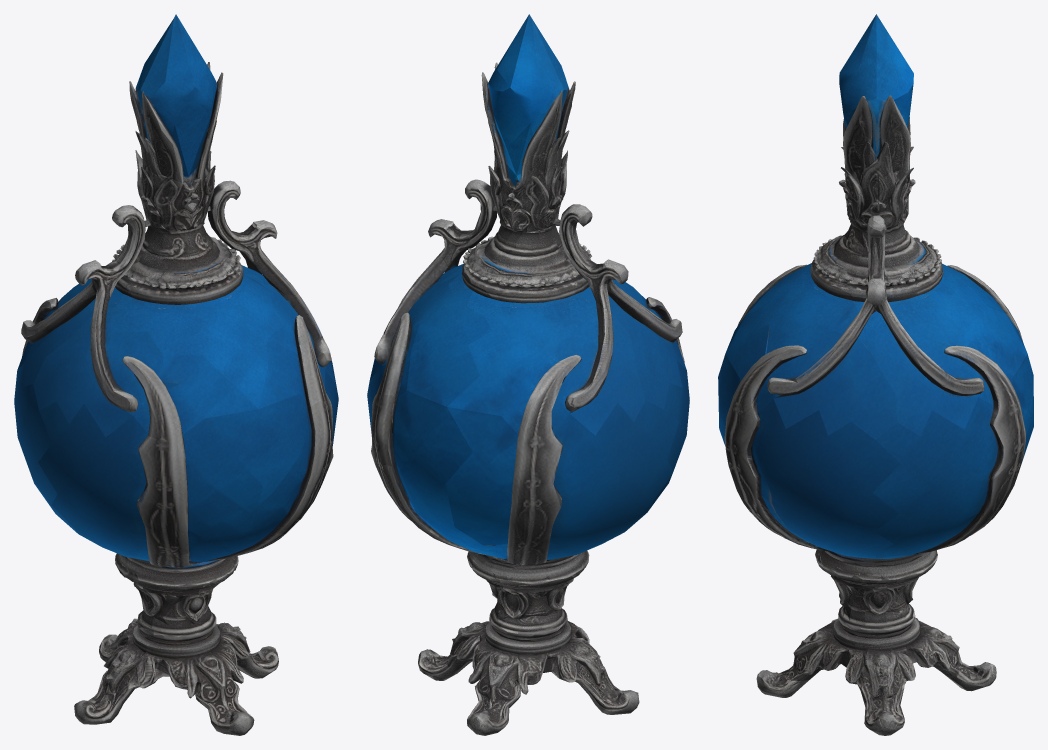
File: Meshy_AI_Weapon_staff_orb_01a0e8cc_texture.glb
The picture shows the model from 3 angles, left to right: view 1: azimuth 30°, elevation 25°; view 2: azimuth 150°, elevation 25°; view 3: azimuth 270°, elevation 25°; orthographic projection.
Size of the model in its own units: 0.812 by 1.9 by 0.8082.
1 material, 1 textured.
